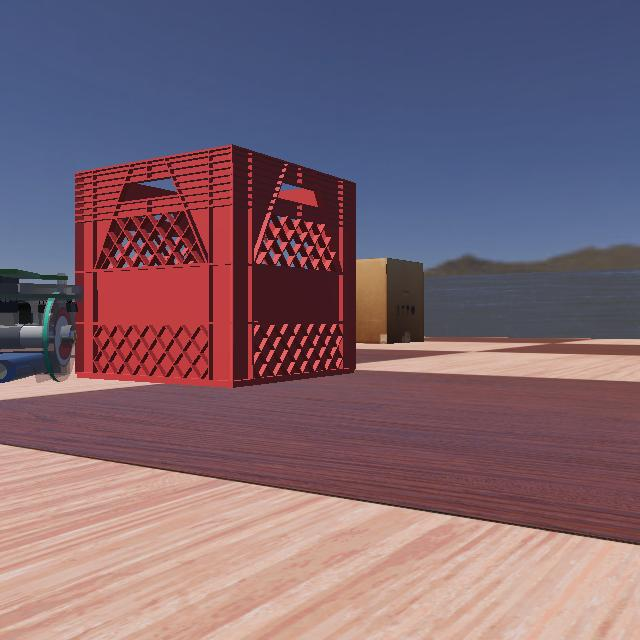cardboard-box: (313, 257, 433, 343), (313, 257, 433, 343)
plastic-crate: (28, 143, 366, 387)
